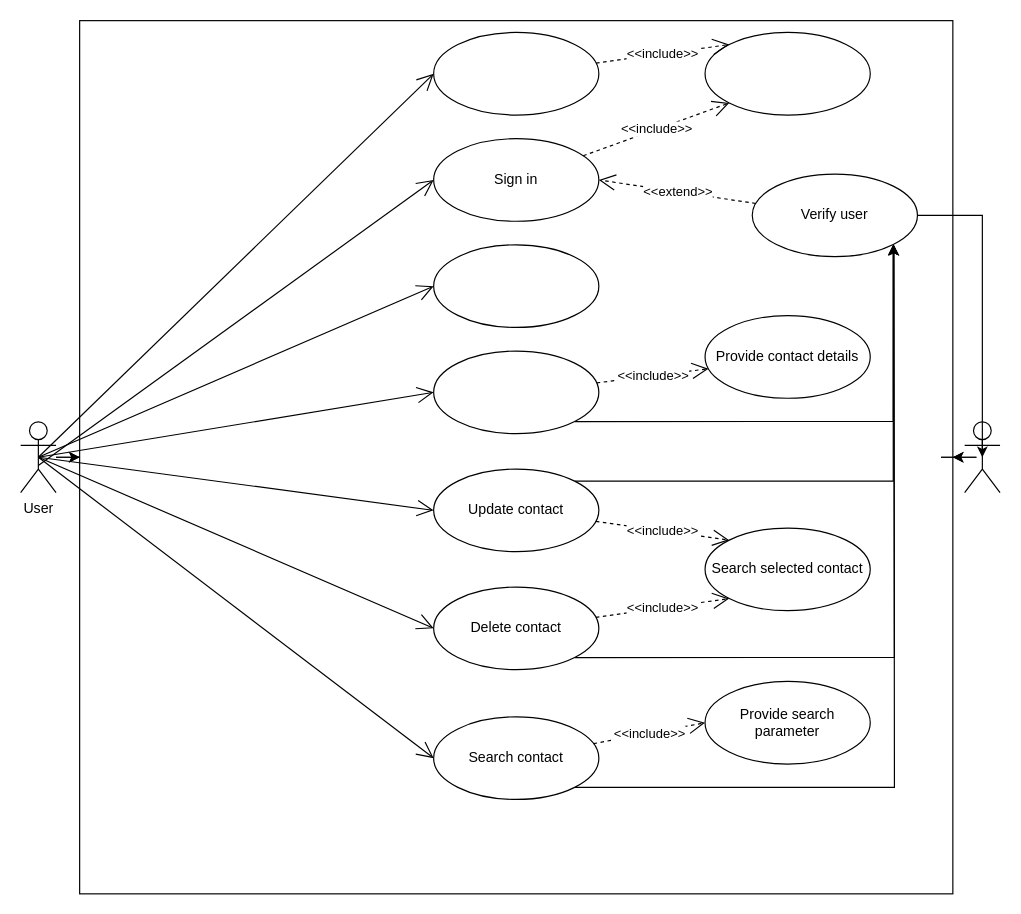
The diagram is 1021 pixels wide and 914 high, and some of its shapes have lost their labels. Each missing label, with the centre of its shape:
Create account: the point at 515,73
Create contact: the point at 515,392
DB: the point at 981,457
Display contacts: the point at 515,285
Provide login credentials: the point at 787,73
